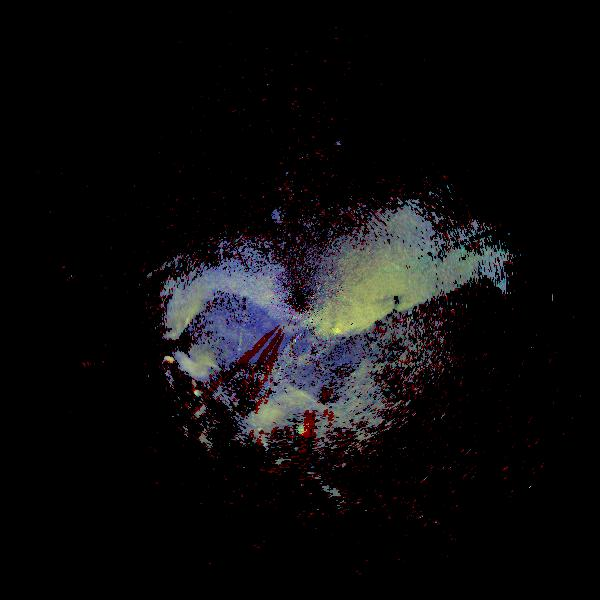roost: (161, 354, 176, 369), (192, 387, 201, 396)
